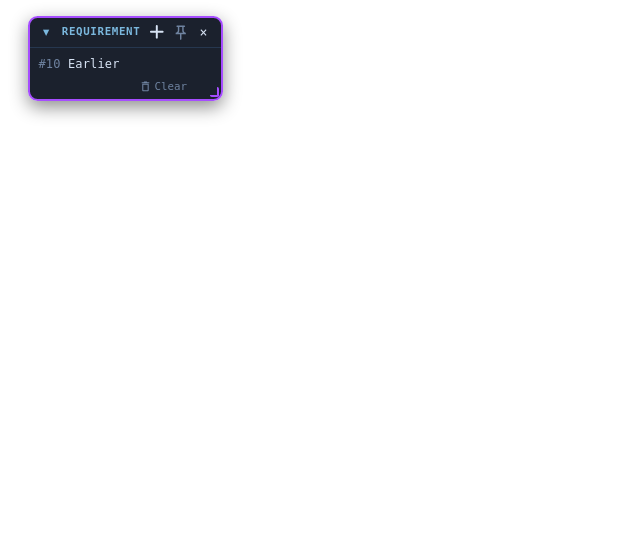
Test: Requirement Filer (req #3811) › a new requirement joins the list when it is filed, newest first (req #3830)
Click the button with test id "requirement-filer-add". click: click(157, 32)
box: 148,23 -> 167,42
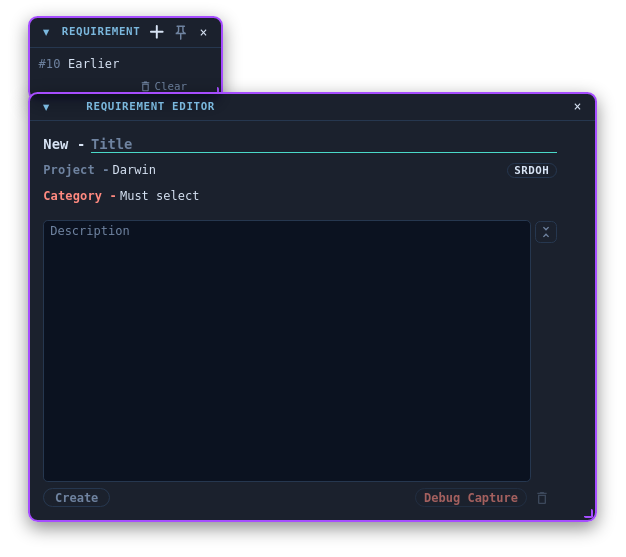
Type "Fresh" into the field with test id "requirement-editor-field-title". click: (324, 144)
box: 91,136 -> 557,153
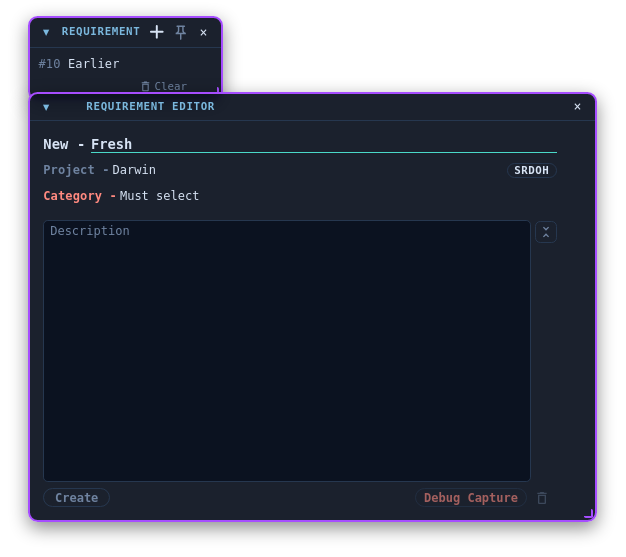
Select "Swarm" in the dropdown with test id "requirement-editor-field-category". click: (160, 197)
box: 120,188 -> 200,206
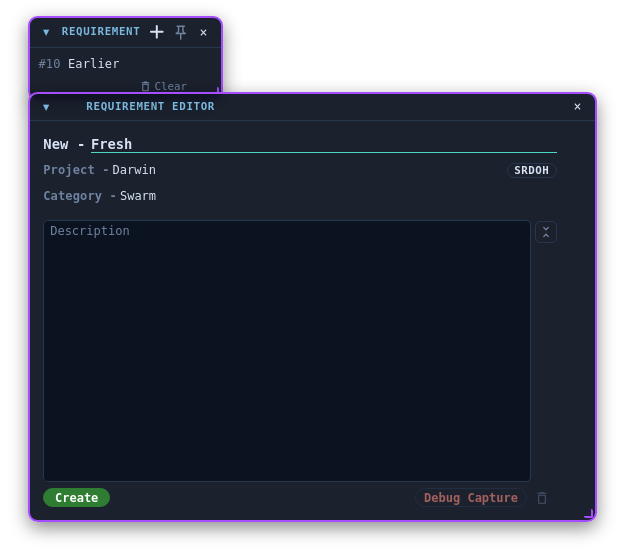
Click the button with test id "requirement-editor-save". click: click(77, 498)
box: 43,488 -> 110,507
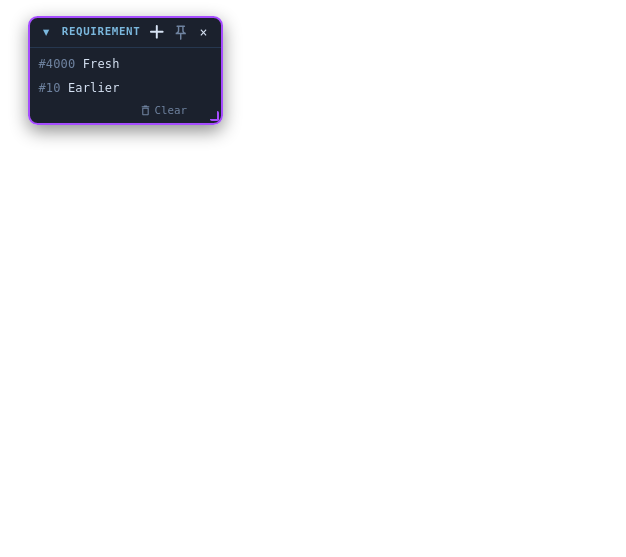
Expected: the button with test id "requirement-filer-item-4000" is shown, 38,57 -> 120,71
